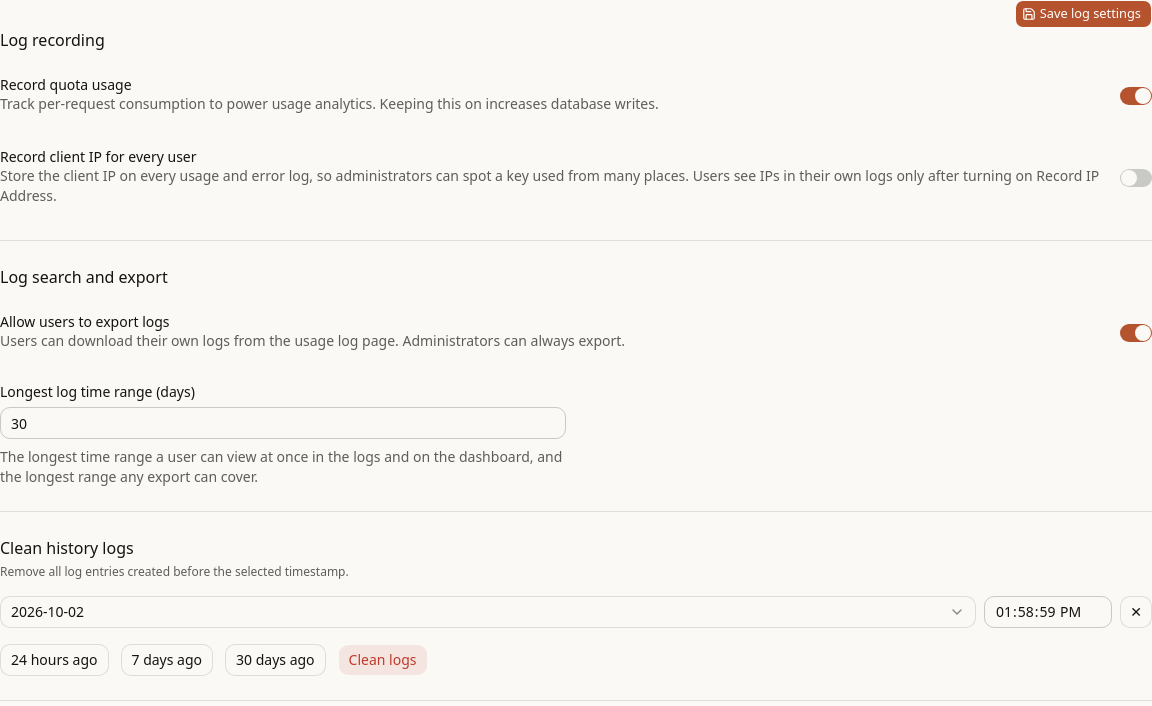
confirming a history cleanup starts the task and shows its progress in that module
The width and height of the screenshot is (1152, 706).
Click the button "Clean logs" at (383, 660), box [338, 644, 428, 676]
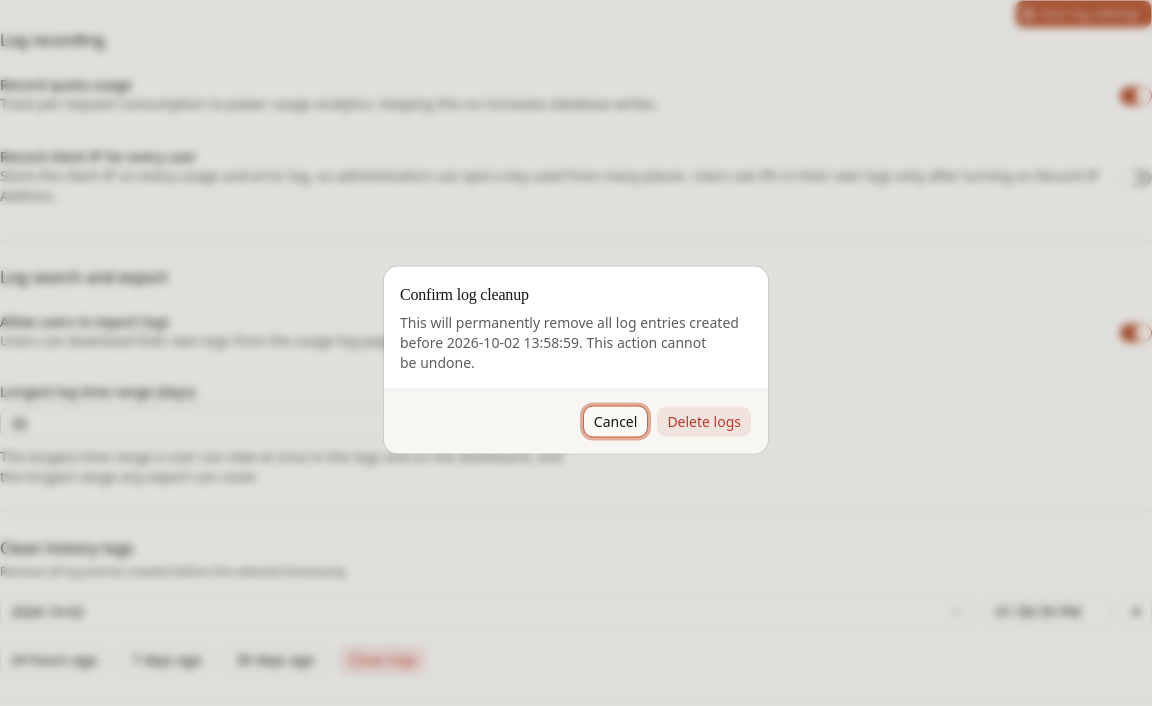
Click the button "Delete logs" at (704, 422), box [656, 406, 752, 438]
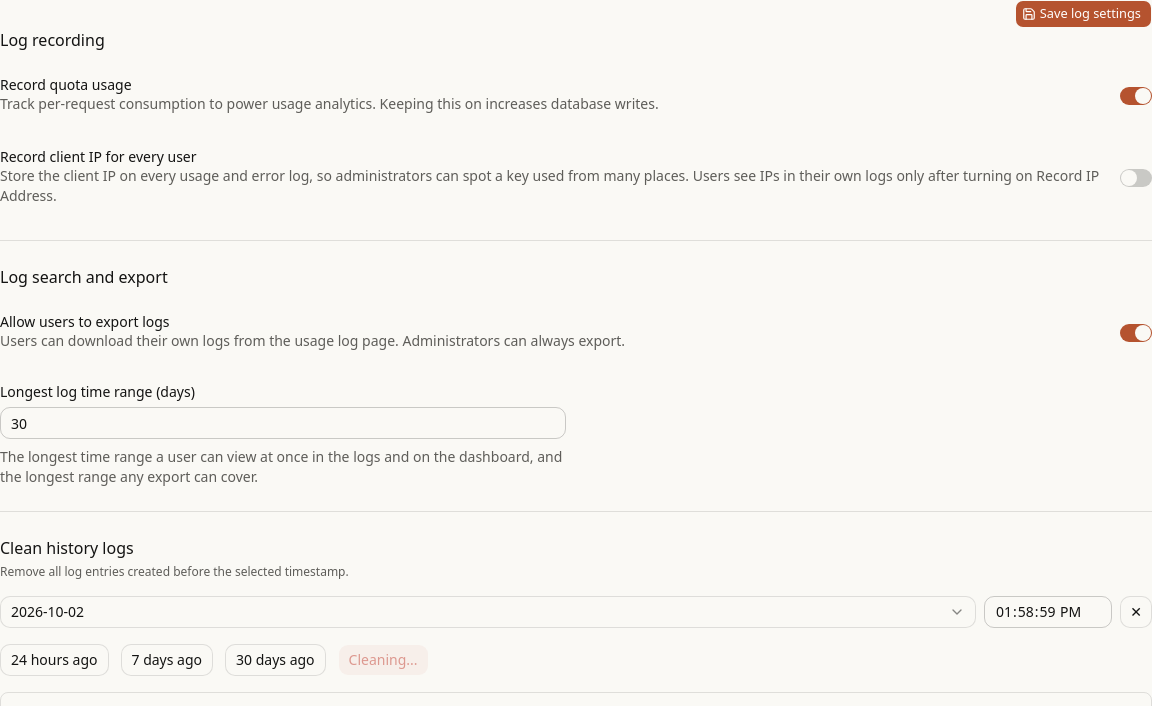
Now the button "Cleaning..." is disabled, box [338, 644, 429, 676]
